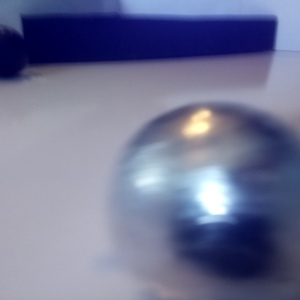zone: (107, 15, 300, 73)
